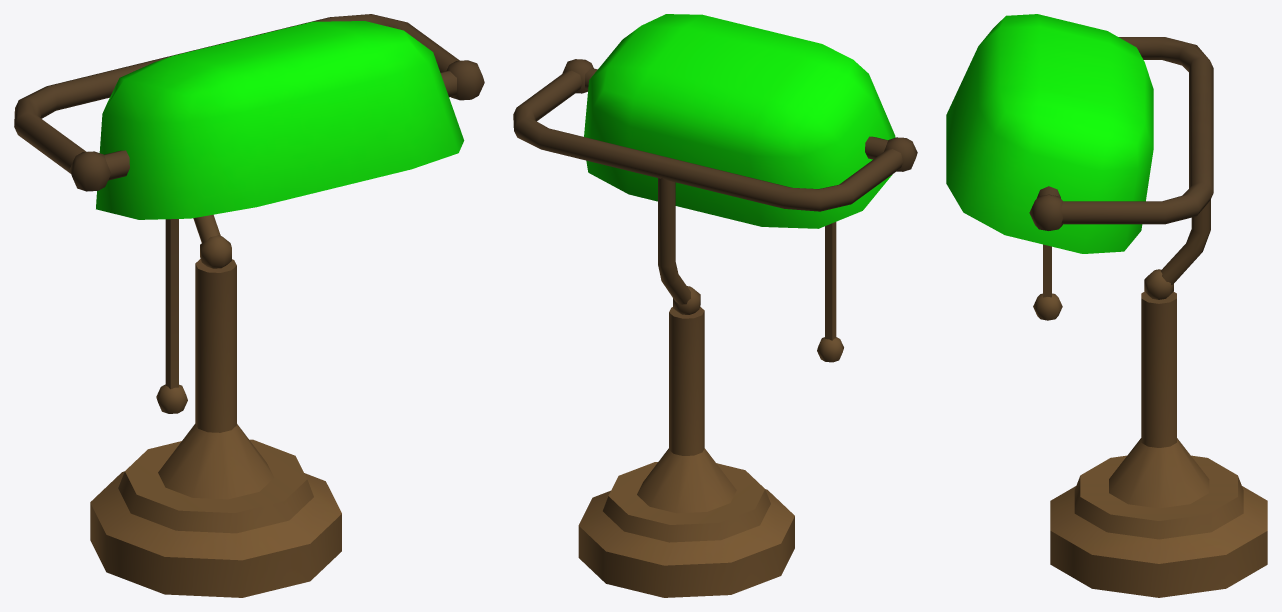
File: Lamp_Stylish.fbx
3 views of the same model, side by side, from view 1: azimuth 30°, elevation 25°; view 2: azimuth 150°, elevation 25°; view 3: azimuth 270°, elevation 25° (orthographic). The views are drawn at different scales.
Parts seen in each view (by area): view 1: Lamp_Stylish; view 2: Lamp_Stylish; view 3: Lamp_Stylish.
Part boxes in pixels (x1,y1,x2,y2): Lamp_Stylish: (14,14,484,597); Lamp_Stylish: (513,14,917,597); Lamp_Stylish: (946,14,1267,597).
Bounding box in the file's own units: 42.21 × 53.55 × 31.72.
